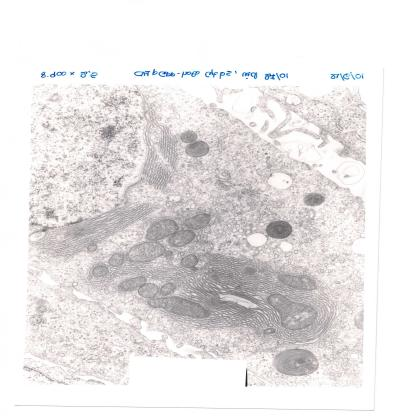mitochondria: (266, 294, 317, 330), (147, 296, 211, 320), (272, 348, 320, 377), (127, 242, 165, 263), (144, 219, 178, 242), (278, 274, 317, 290), (167, 230, 196, 248), (118, 276, 147, 292), (182, 213, 211, 229), (185, 141, 210, 158), (303, 192, 325, 206), (138, 284, 159, 298), (108, 252, 125, 266), (159, 282, 176, 296), (92, 265, 110, 278), (180, 254, 198, 267), (179, 131, 198, 143), (86, 244, 98, 252)
